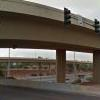Bridge: (7, 3, 93, 77)
